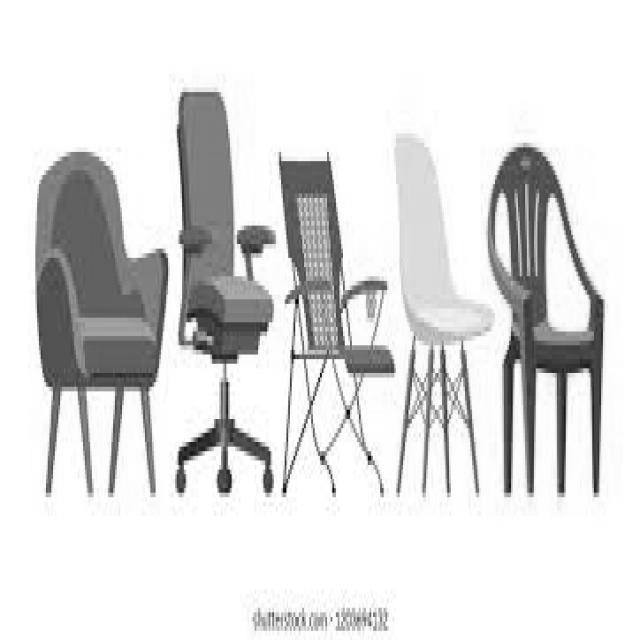chair: (32, 148, 170, 500), (487, 140, 606, 500), (278, 148, 396, 504), (393, 110, 495, 520), (176, 88, 274, 504)
